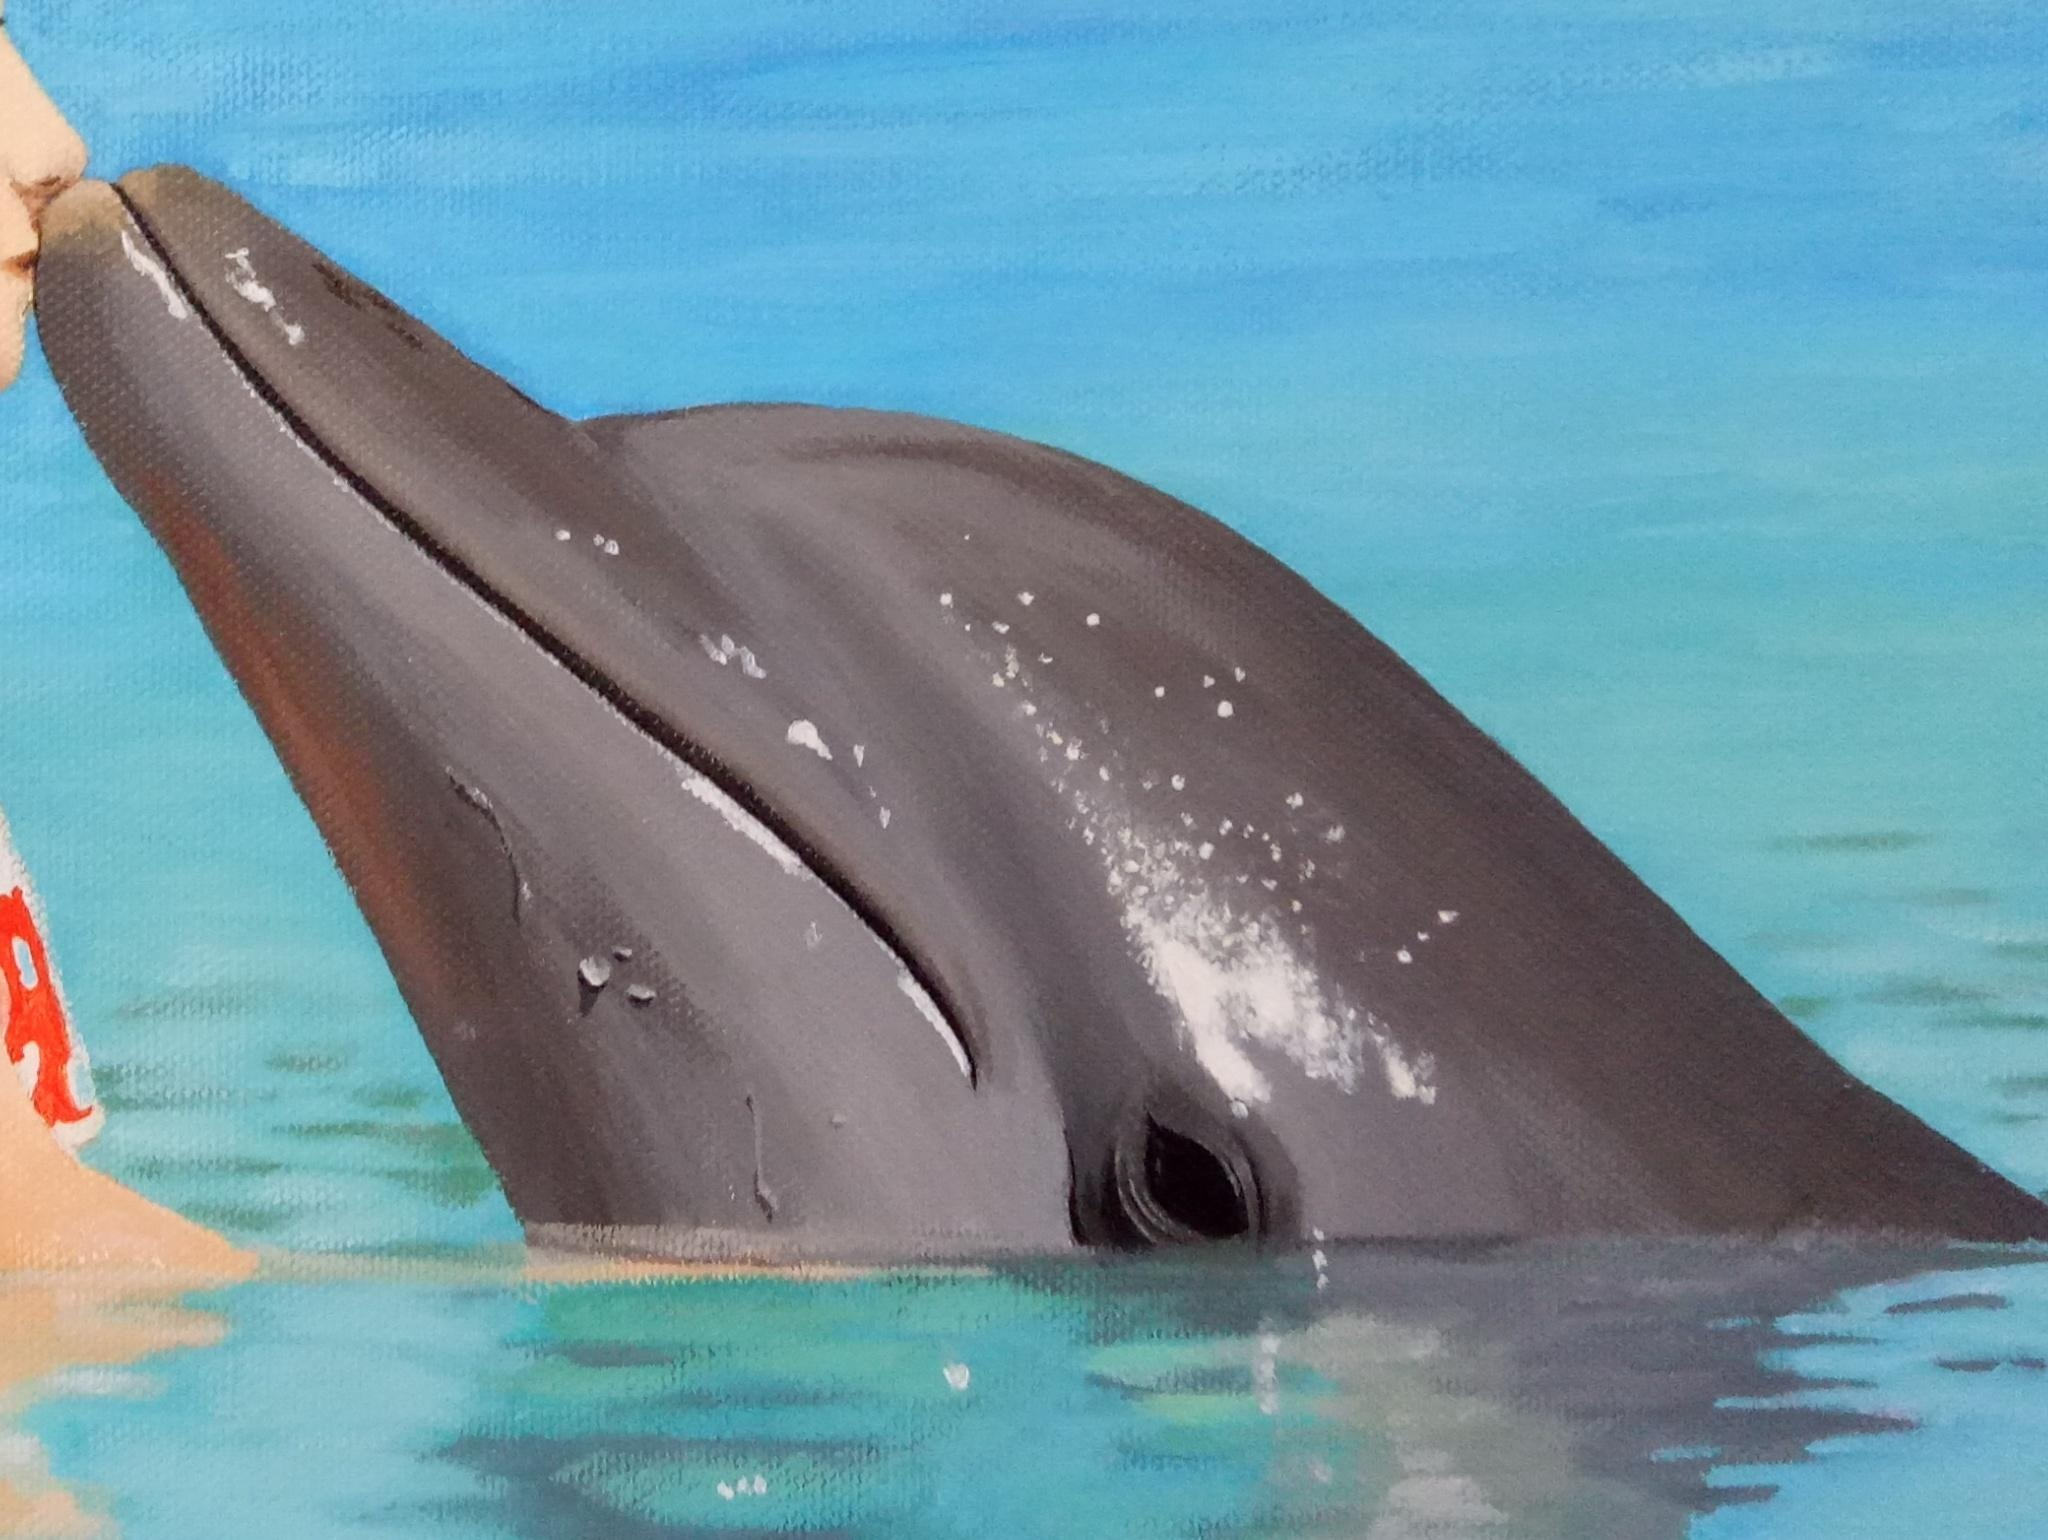fish: (52, 163, 2048, 1246)
